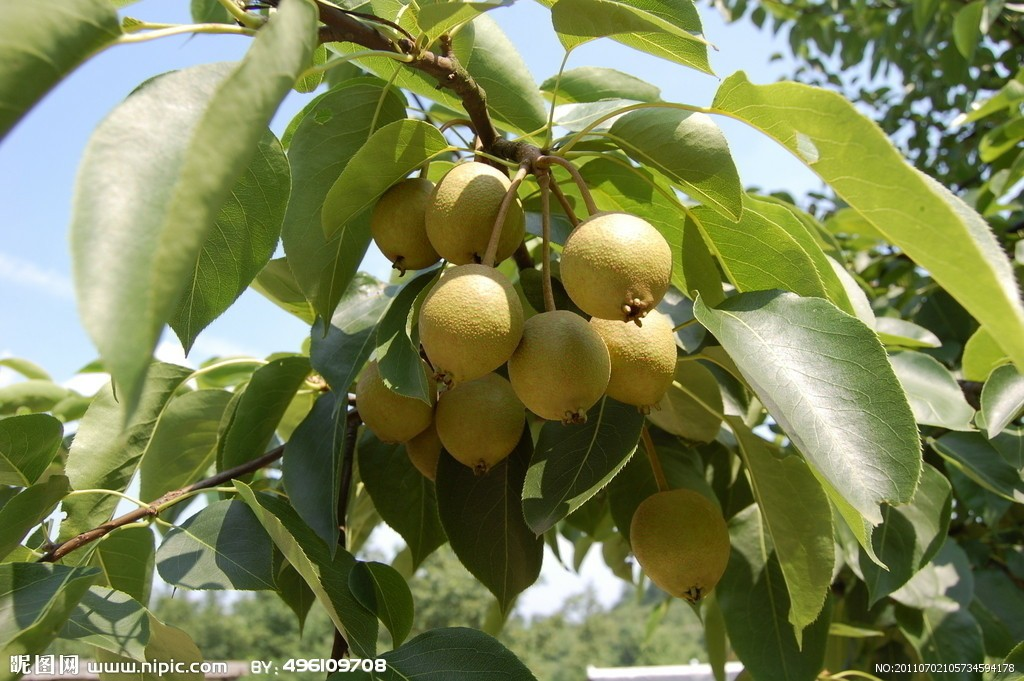pear: (412, 266, 527, 380), (505, 303, 611, 423), (560, 213, 672, 317), (630, 485, 731, 594), (428, 161, 527, 266), (589, 299, 677, 406), (433, 371, 529, 464), (372, 174, 445, 270), (354, 354, 433, 441)
